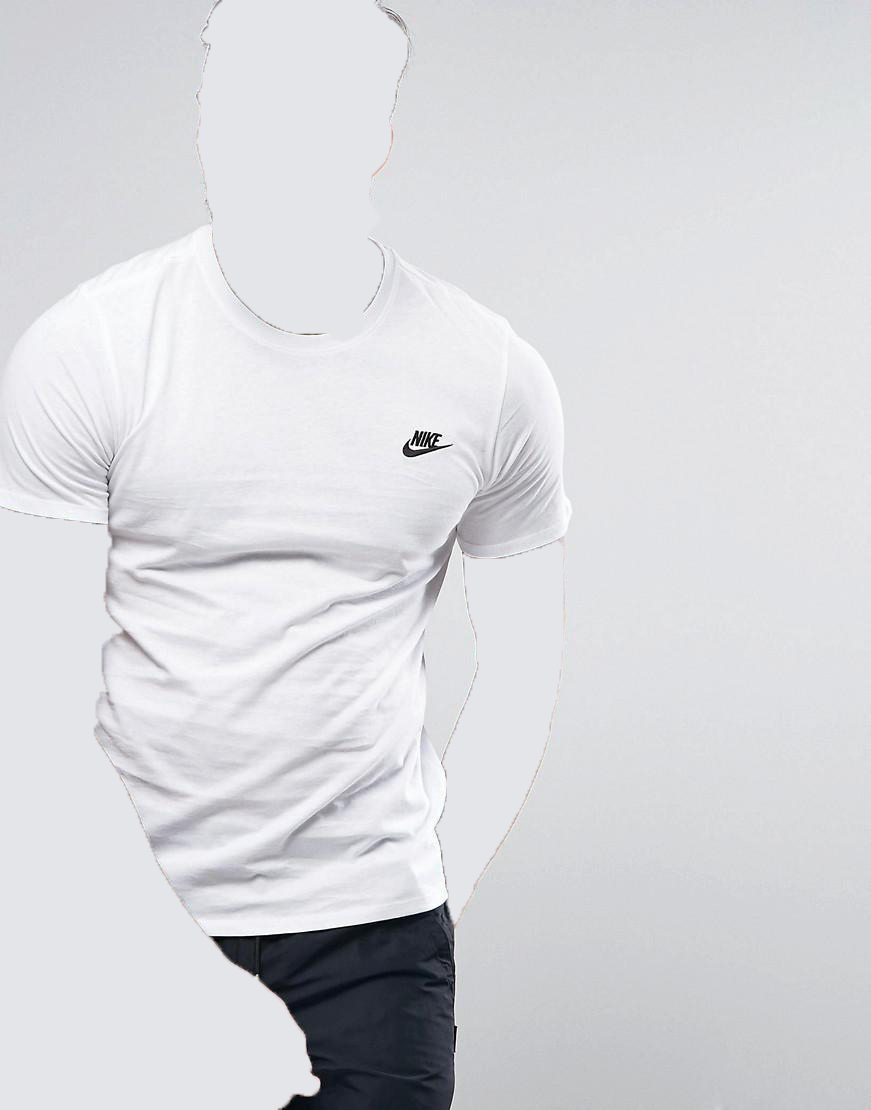teeshirt: (1, 224, 579, 937)
